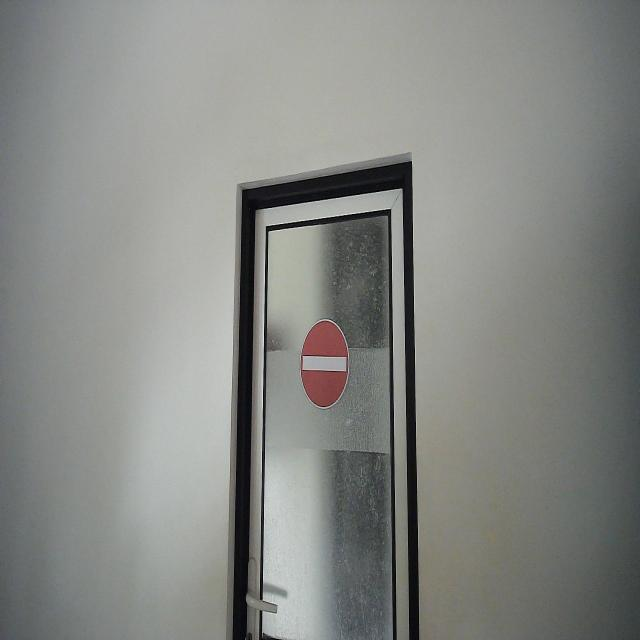no_entry: (298, 316, 352, 411)
